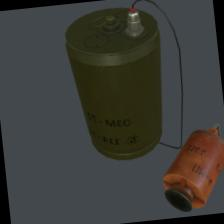OZM-72: (61, 0, 171, 174)
